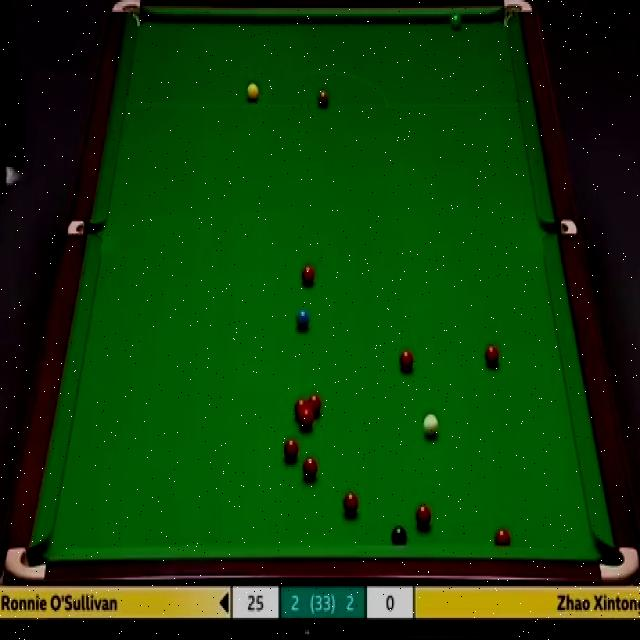black-ball: (392, 524, 408, 546)
blue-ball: (294, 308, 312, 329)
brown-ball: (317, 86, 329, 107)
green-ball: (450, 9, 463, 29)
red-ball: (341, 488, 361, 516), (302, 452, 320, 481), (398, 346, 415, 374), (301, 264, 319, 290), (415, 505, 432, 532), (280, 440, 300, 462), (484, 344, 499, 369), (294, 398, 308, 424), (308, 394, 321, 418), (494, 527, 511, 545), (300, 411, 314, 431)
white-ball: (422, 414, 441, 441)
yellow-ball: (246, 85, 258, 101)
